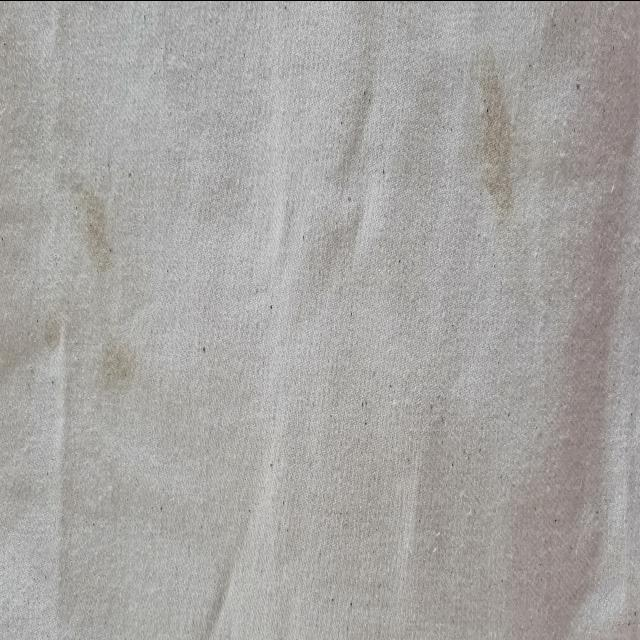taaaches: (461, 52, 526, 236), (71, 182, 127, 294), (104, 330, 150, 410)
